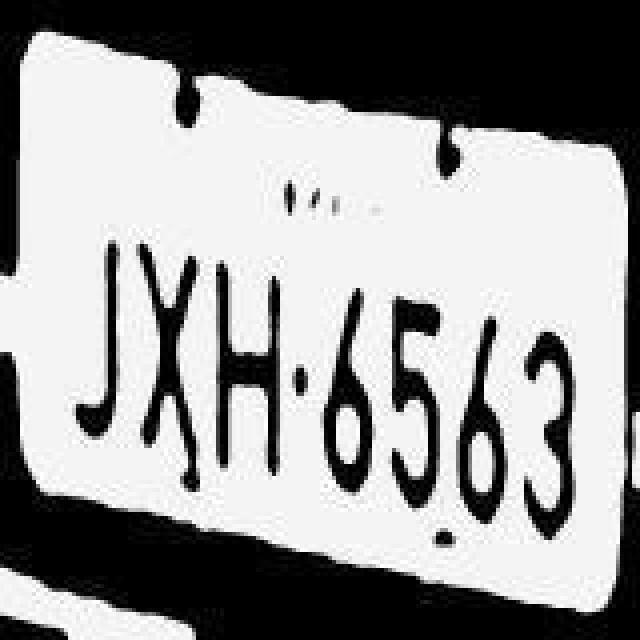3: (512, 310, 576, 538)
5: (384, 276, 448, 508)
6: (316, 272, 380, 496), (452, 300, 508, 516)
H: (210, 238, 286, 474)
J: (74, 220, 134, 444)
X: (138, 228, 206, 452)
